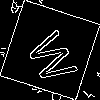W: (25, 25, 87, 88)
